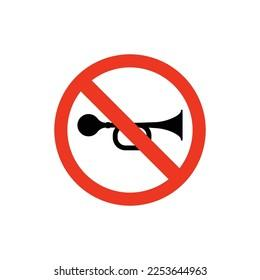Horn Prohibited: (20, 53, 247, 222)
